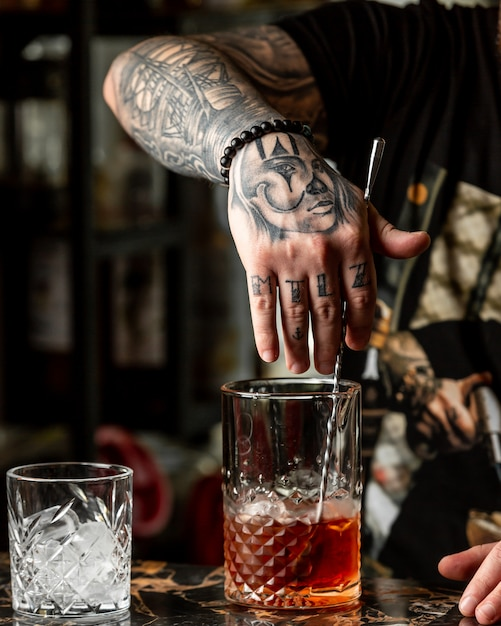alcohol: (219, 372, 363, 612)
